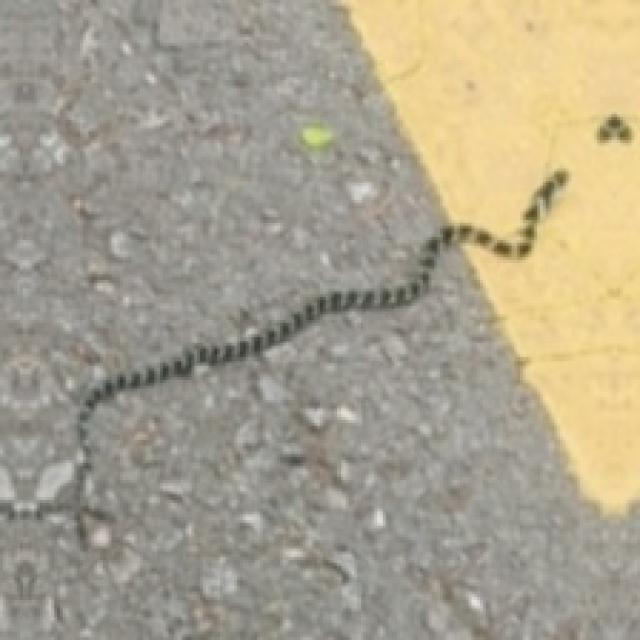king cobra: (80, 234, 554, 557)
